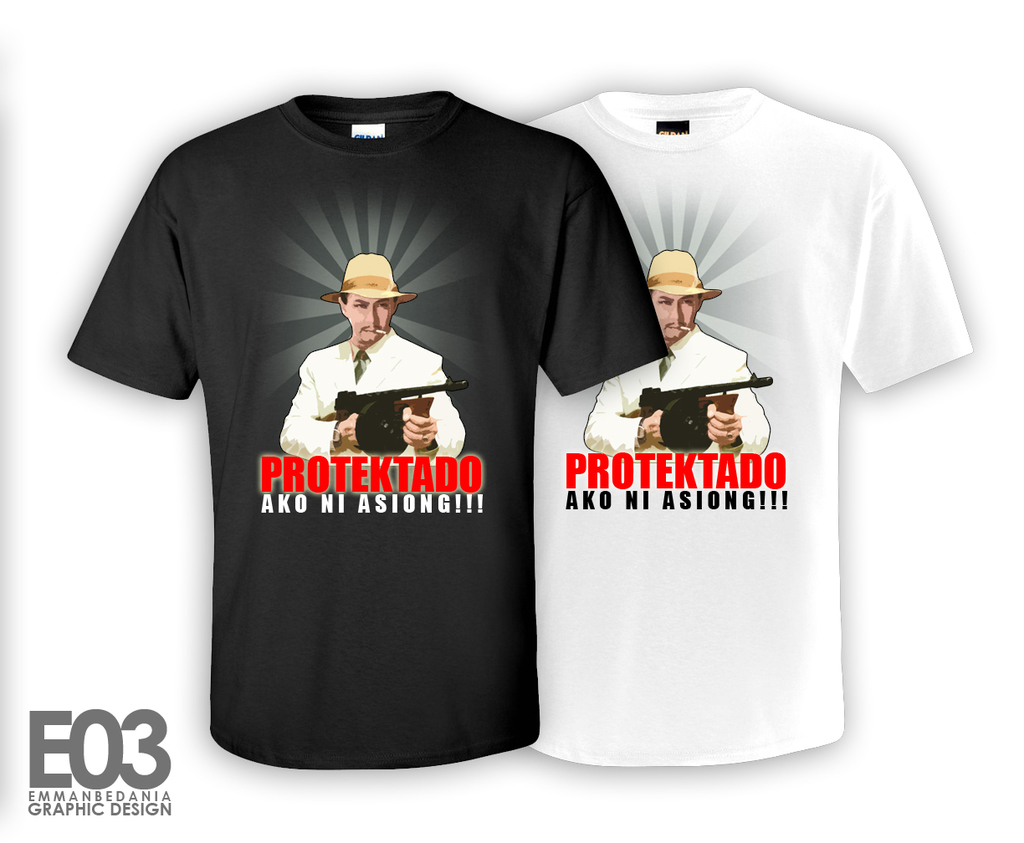Person: (578, 245, 775, 459), (278, 253, 467, 468)
